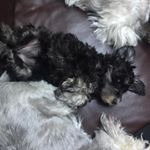puppy: (1, 25, 146, 109)
